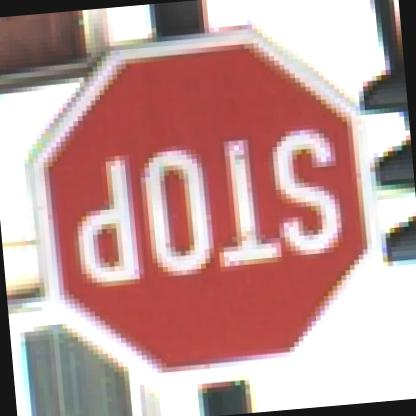stop: (6, 19, 404, 380)
